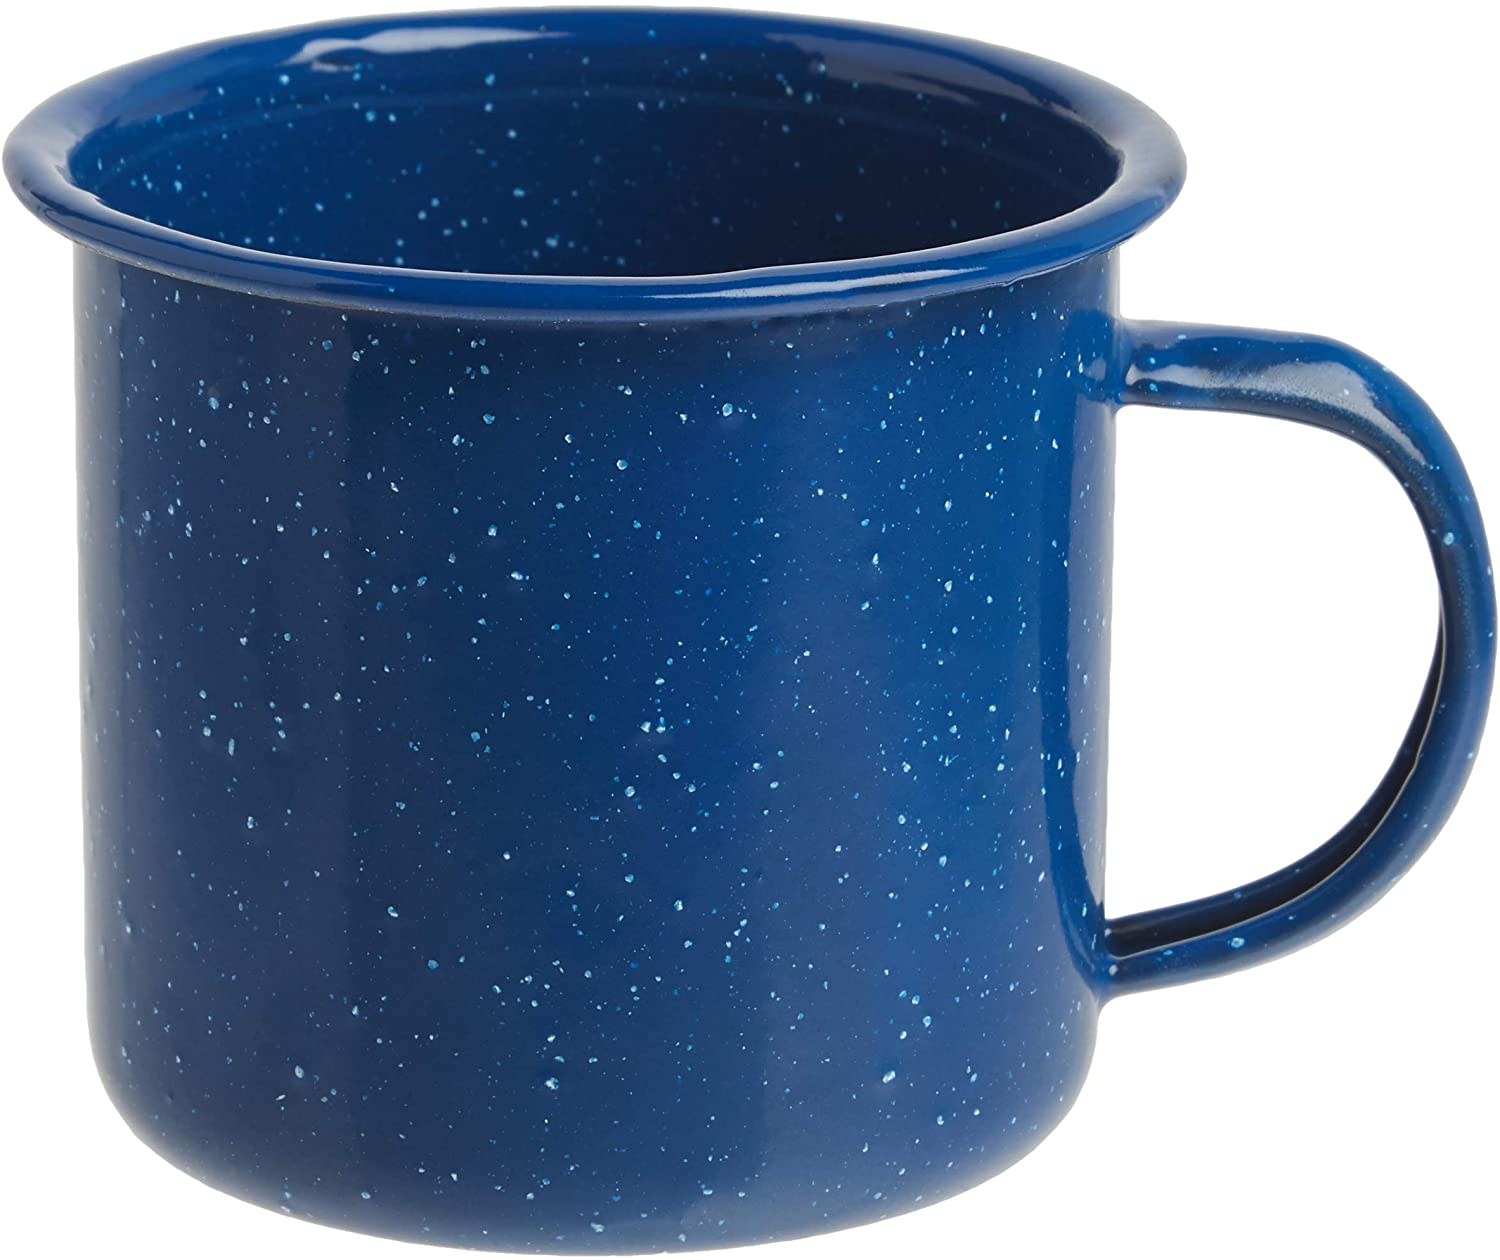gelas: (1, 1, 1500, 1260)
